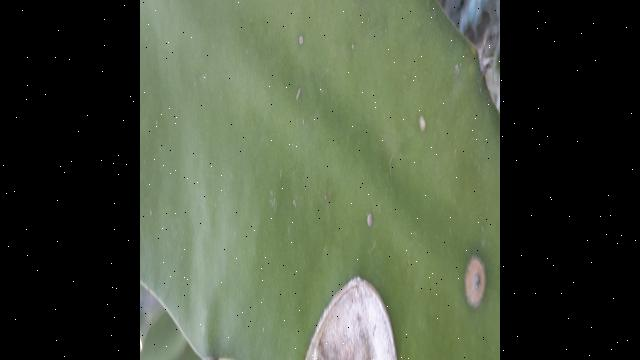stemcanker: (461, 256, 490, 310)
